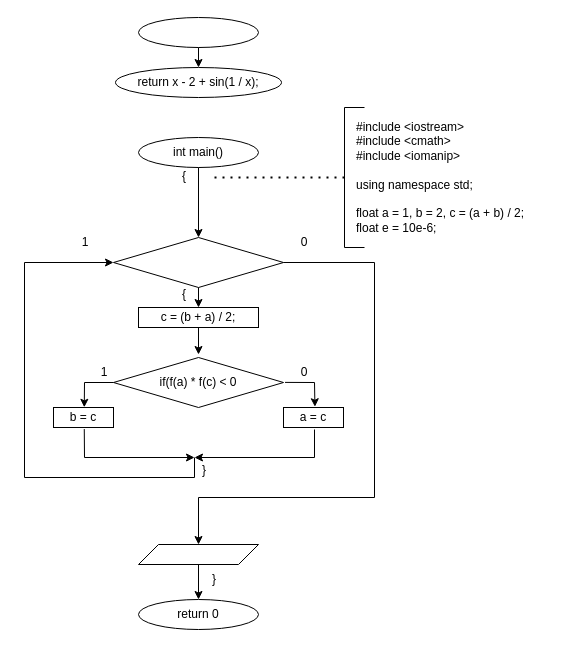
This 572x647 diagram has some shape labels left out. The shapes that lost their labels are listed below. From the top down, each one's centre as x and y in pixels, then its label:
At pixel 198 32: "float f(float x)".
At pixel 198 262: "while(abs(a - b) > e".
At pixel 198 554: "cout << b;".
